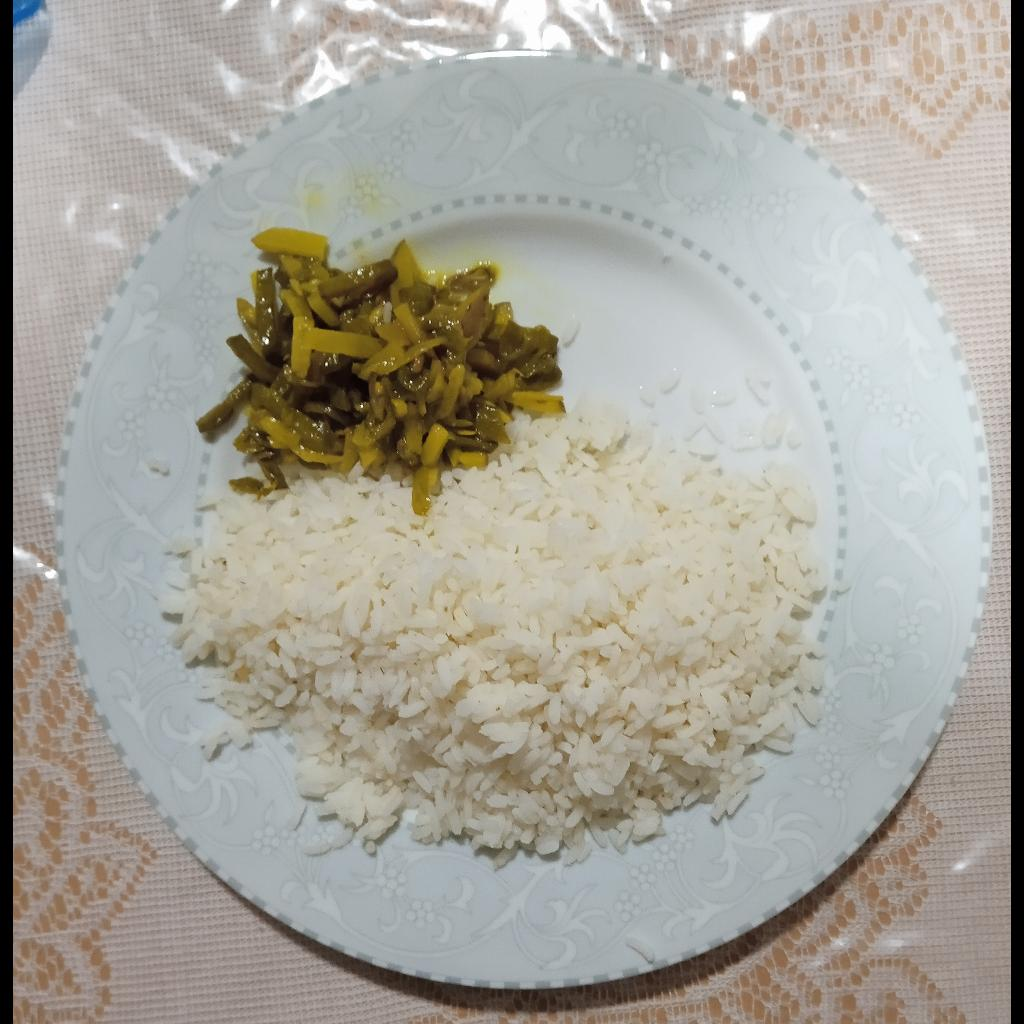rice: (162, 401, 830, 870)
vegetable: (192, 226, 557, 495)
